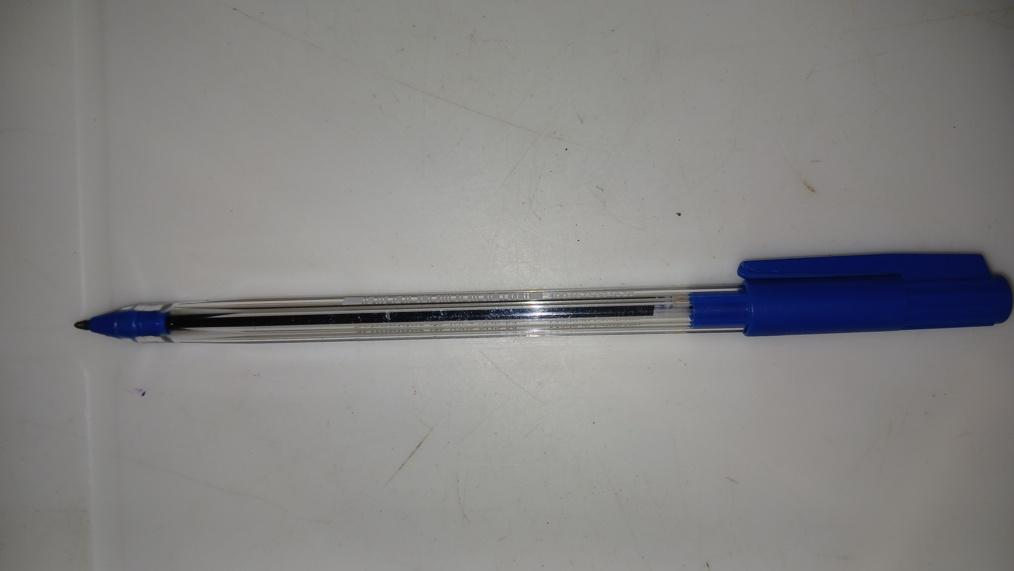pen: (73, 252, 1008, 340)
